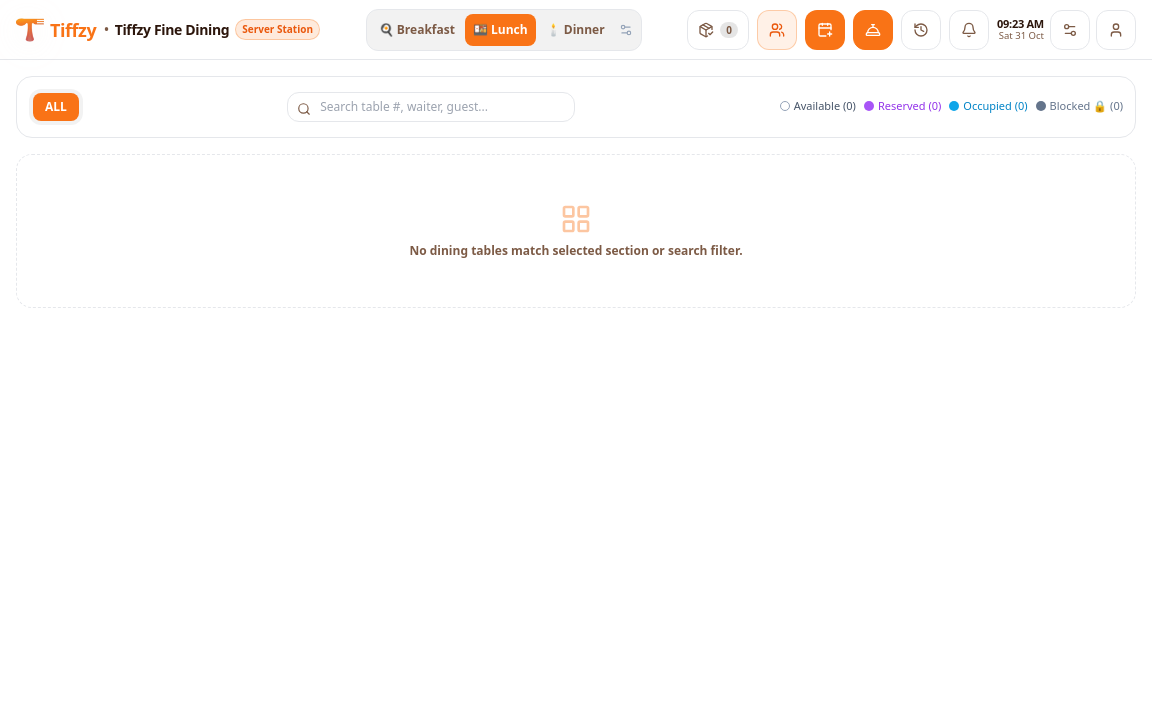
it: Server Station Navbar — History & Notifications Icon-Only Buttons › 8. Waitlist button is compact icon button with tooltip and opens waitlist on click
Click the button with test id "server-waitlist-nav-btn". click: click(777, 30)
box: [757,10,797,50]
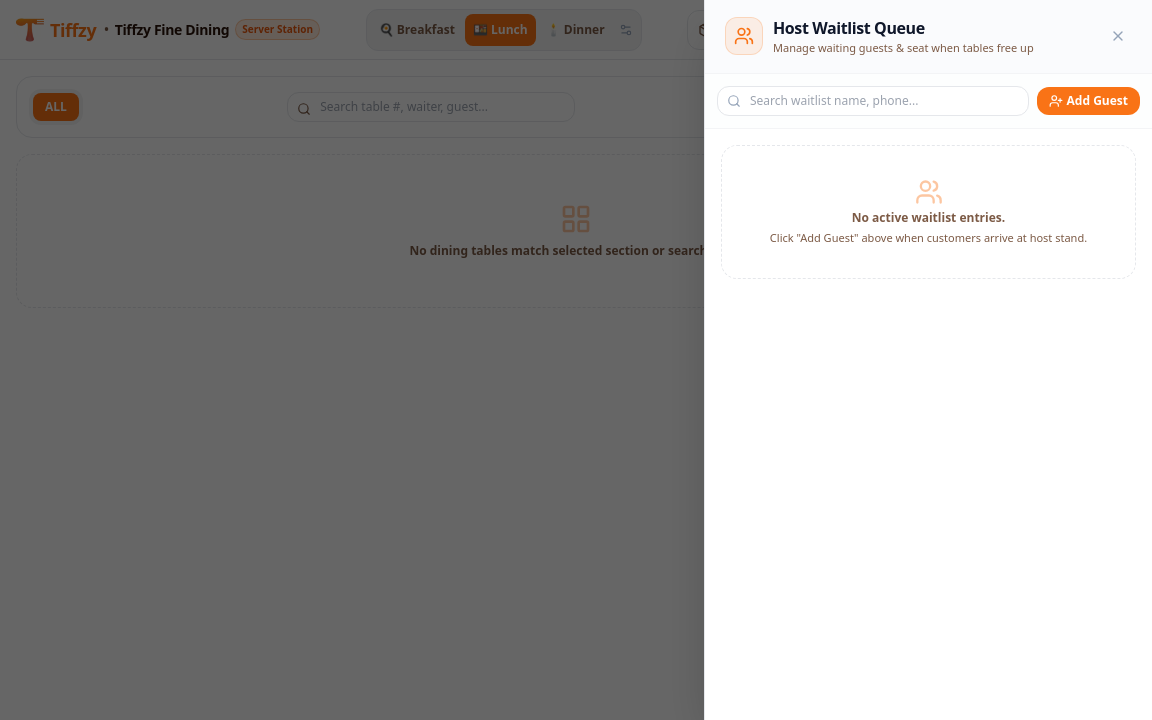
expect the heading "Host Waitlist Queue" is shown: met, box [773,17,925,39]
